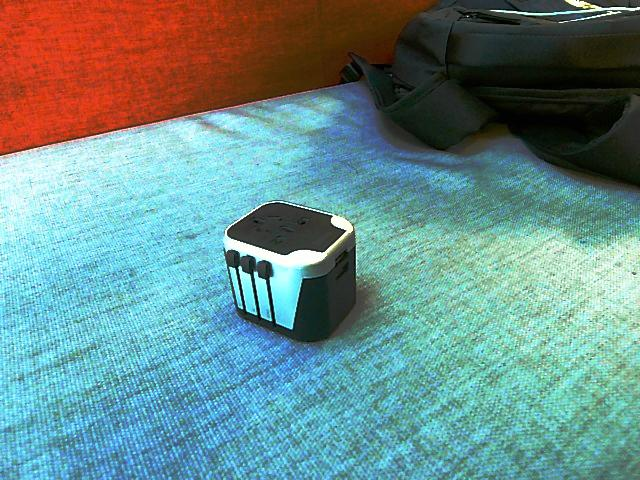adapter: (221, 198, 357, 342)
